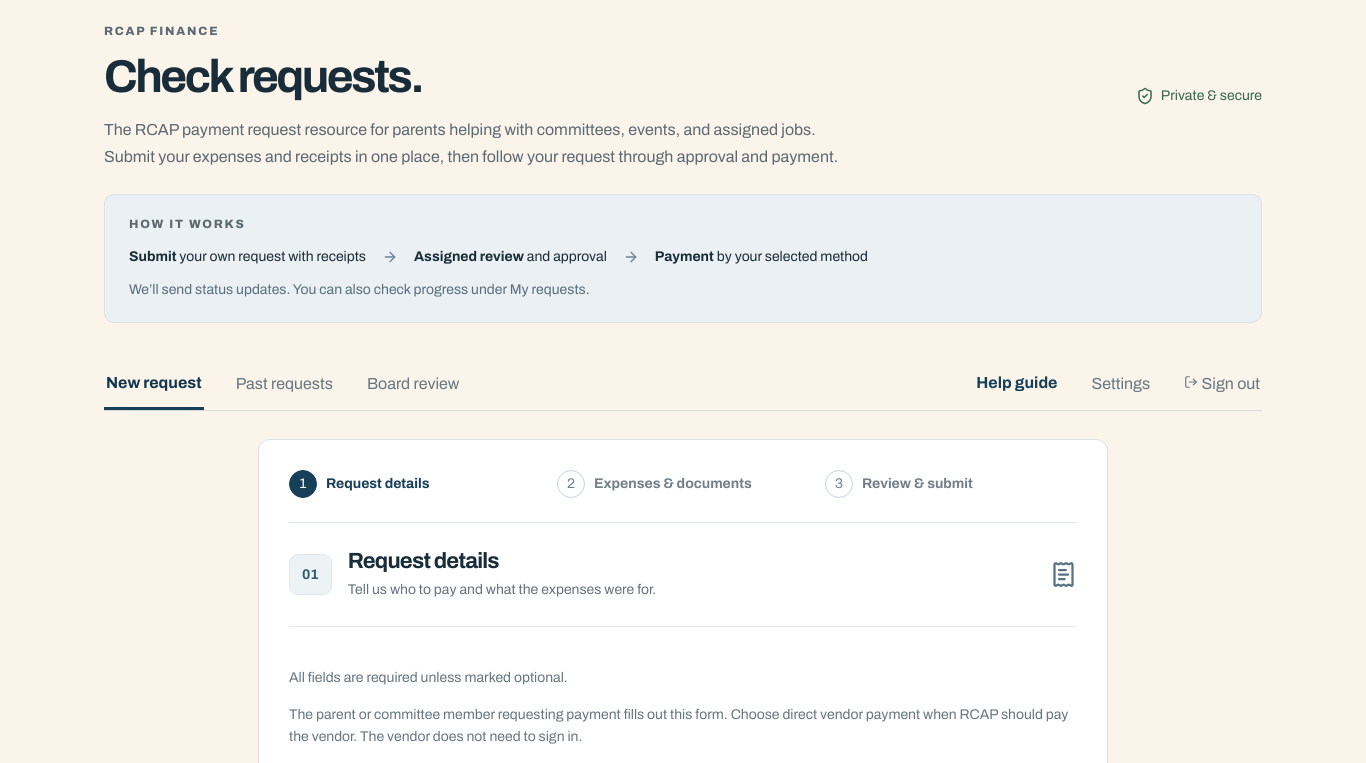
it: Past requests shows the full history for manager and only personal submissions for requesters
(page scrolled)
What coordinates should you click on to do the following:
click the button "Past requests"
I would click on:
 (284, 384)
Its box is [234,358,335,410].
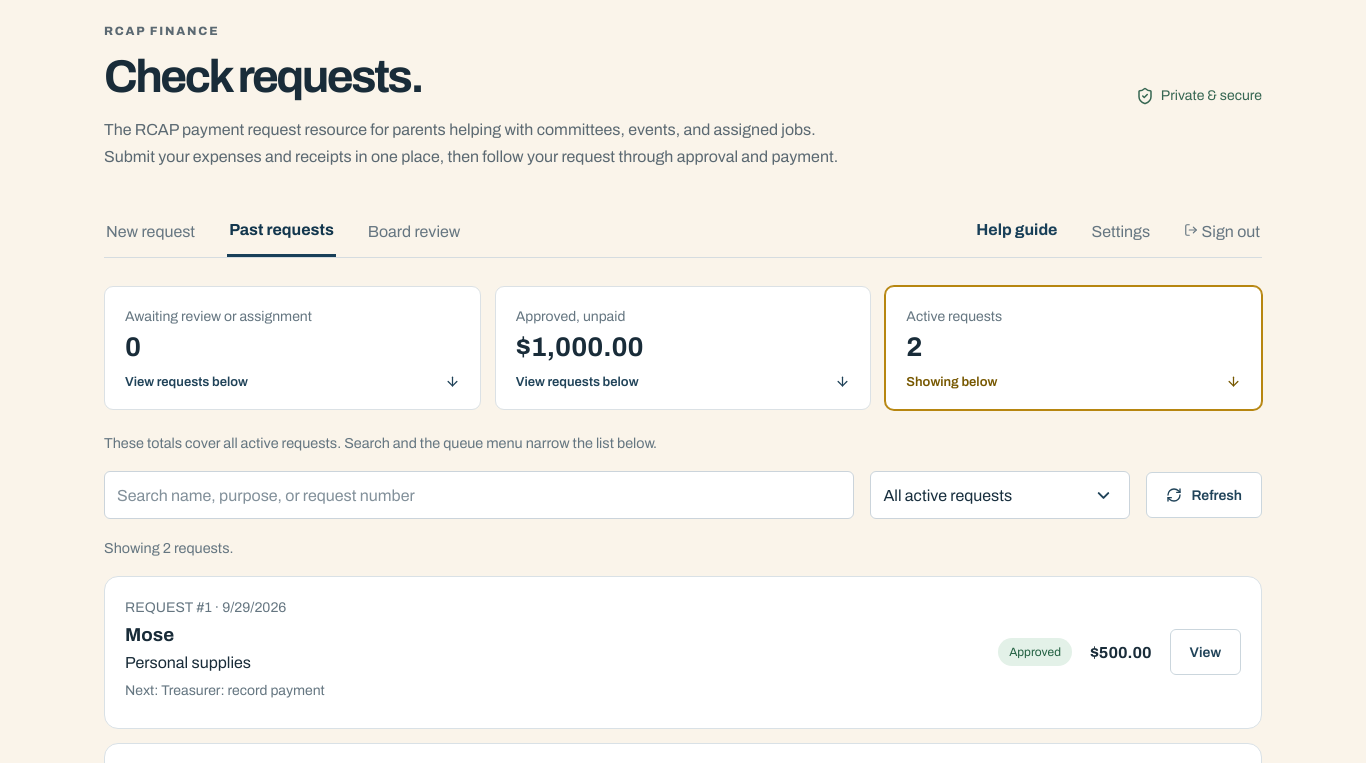
Result: the text "Personal supplies" is shown at [125,654,251,671]
